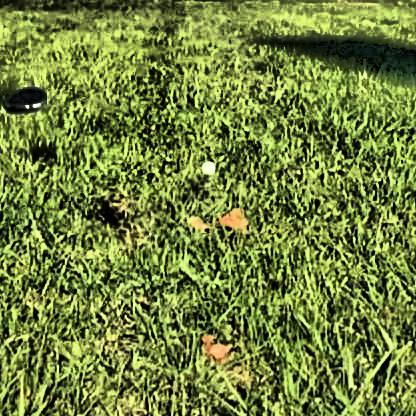golfball: (199, 156, 214, 171)
